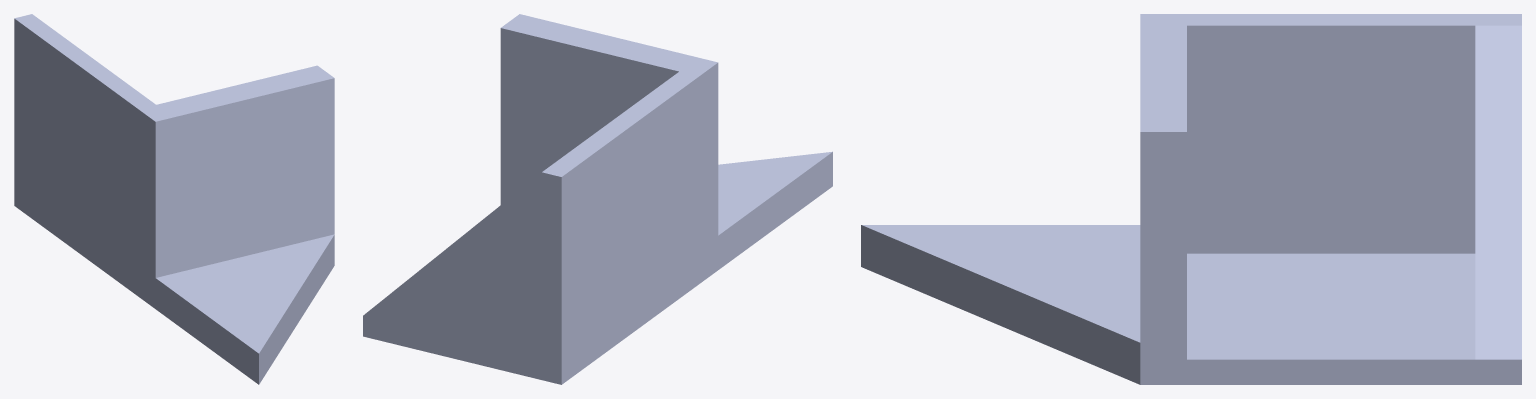
Rendered from black_triangle.obj.
3 renders of one model, left to right at view 1: azimuth 30°, elevation 25°; view 2: azimuth 150°, elevation 25°; view 3: azimuth 270°, elevation 25°, orthographic. The views are drawn at different scales.
Parts seen in each view (by area): view 1: Root|camcali_VISUALIZE_(Default)|Merged_Parts|Part; view 2: Root|camcali_VISUALIZE_(Default)|Merged_Parts|Part; view 3: Root|camcali_VISUALIZE_(Default)|Merged_Parts|Part.
Boxes of the visible parts, x1,y1,x2,y2 form: Root|camcali_VISUALIZE_(Default)|Merged_Parts|Part: (14,14,334,384); Root|camcali_VISUALIZE_(Default)|Merged_Parts|Part: (363,14,832,384); Root|camcali_VISUALIZE_(Default)|Merged_Parts|Part: (861,14,1521,384).
Size of the model in its own units: 0.03 by 0.03 by 0.071.
